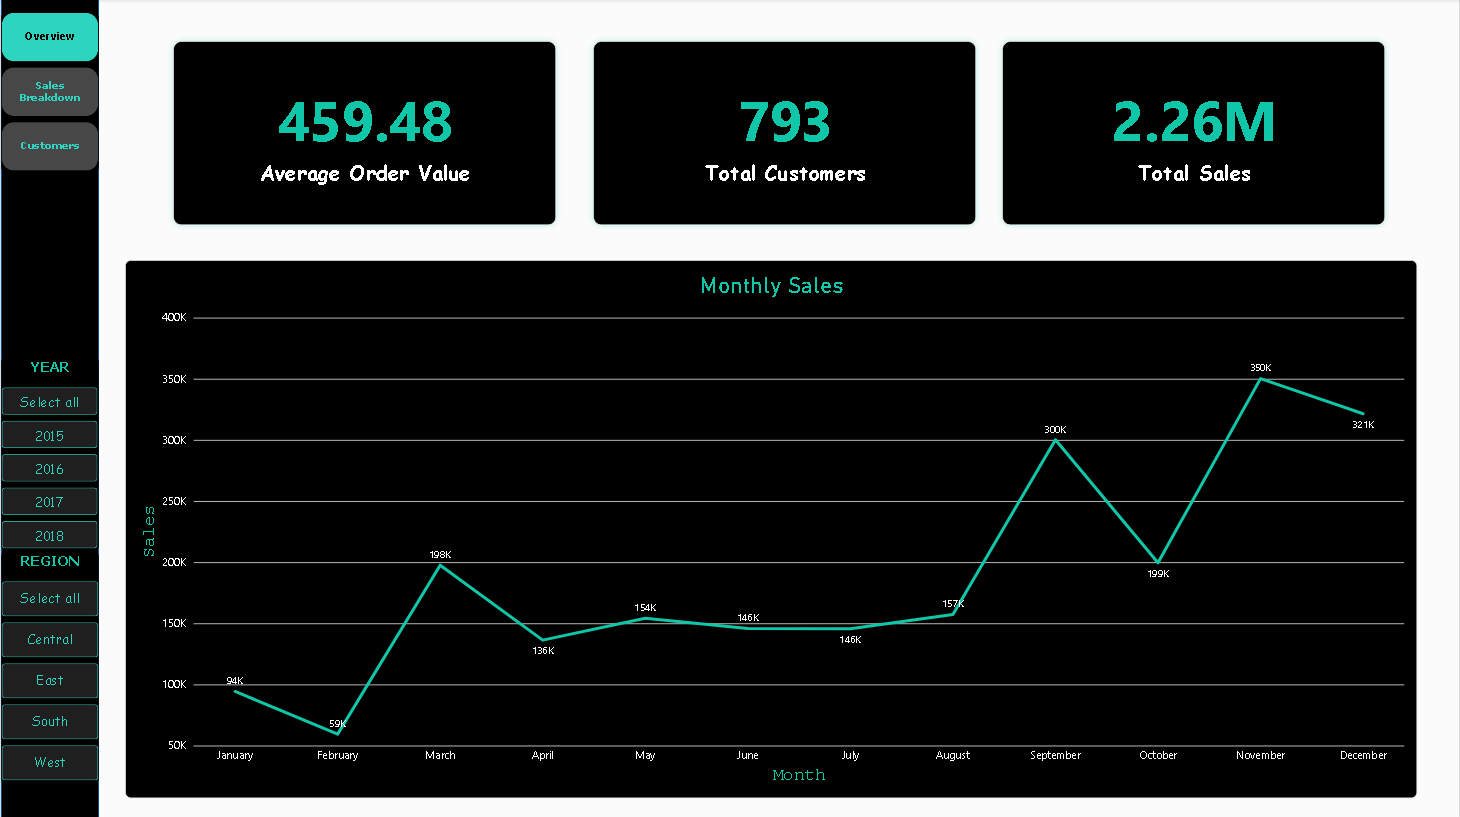

The page's visual inventory and layout, read from the dashboard file:
{"tool":"powerbi","page":{"name":"Overview","canvas":[1920,1080],"ordinal":0},"visuals":[{"type":"shape","box":[0,0,129.1,1080],"z":0},{"type":"cardVisual","fields":{"Data":["Sum(superstore_db superstore_sales.sales)"]},"box":[1307.9,44.8,526.8,264.7],"z":1000},{"type":"cardVisual","title":"Total Customers","fields":{"Data":["superstore_db superstore_sales.Total Customers"]},"box":[769.2,44.8,526.8,264.7],"z":2000},{"type":"cardVisual","fields":{"Data":["superstore_db superstore_sales.Average Order Value"]},"box":[216,44.8,526.8,264.7],"z":3000},{"type":"lineChart","title":"Monthly Sales","fields":{"Category":["superstore_db superstore_sales.order_date.Variation.Date Hierarchy.Month"],"Y":["Sum(superstore_db superstore_sales.sales)"]},"box":[163.3,343.8,1701.7,708.6],"z":4000},{"type":"pageNavigator","box":[0,17.2,129.1,212],"z":5000},{"type":"advancedSlicerVisual","title":"YEAR","fields":{"Values":["superstore_db superstore_sales.order_date.Variation.Date Hierarchy.Year"]},"box":[0,471.7,128.5,255.7],"z":5001},{"type":"advancedSlicerVisual","title":"REGION","fields":{"Values":["superstore_db superstore_sales.region"]},"box":[0,727.5,129.1,306.9],"z":5002}]}

Visuals, with their boxes in screenshot pixels (x1, y1, x2, y2), scaled from the page's 1920x1080 canvas onto the 1460x817 screenshot:
shape: Rect(0, 0, 98, 816)
cardVisual - Sum(superstore_db superstore_sales.sales): Rect(995, 34, 1395, 234)
"Total Customers" cardVisual: Rect(585, 34, 986, 234)
cardVisual - superstore_db superstore_sales.Average Order Value: Rect(164, 34, 565, 234)
"Monthly Sales" lineChart: Rect(124, 260, 1418, 796)
pageNavigator: Rect(0, 13, 98, 173)
"YEAR" advancedSlicerVisual: Rect(0, 357, 98, 550)
"REGION" advancedSlicerVisual: Rect(0, 550, 98, 783)
